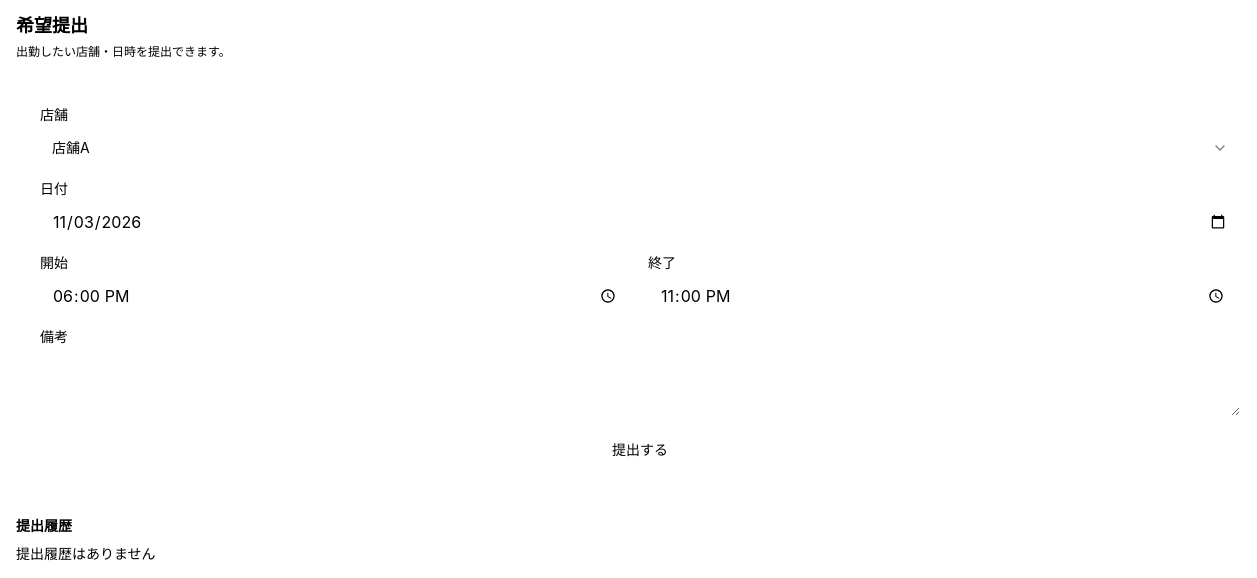
it: 出勤希望フォームの店舗セレクト配線と送信ペイロード › セレクタの表示が選択中の店舗に追従すること
What coordinates should you click on to do the following:
click the dropdown labelled "店舗"
I would click on:
 (71, 148)
Its box is [40,130,1240,166].
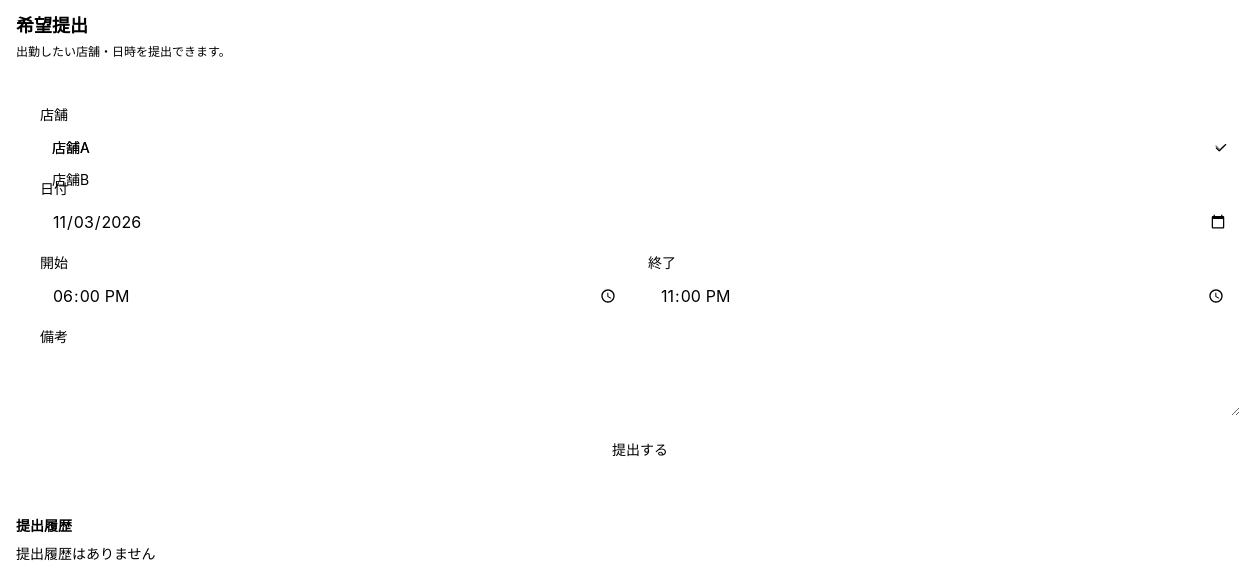
What coordinates should you click on to do the following:
click the option "店舗B"
I would click on:
 (71, 180)
Its box is [52,171,89,188].
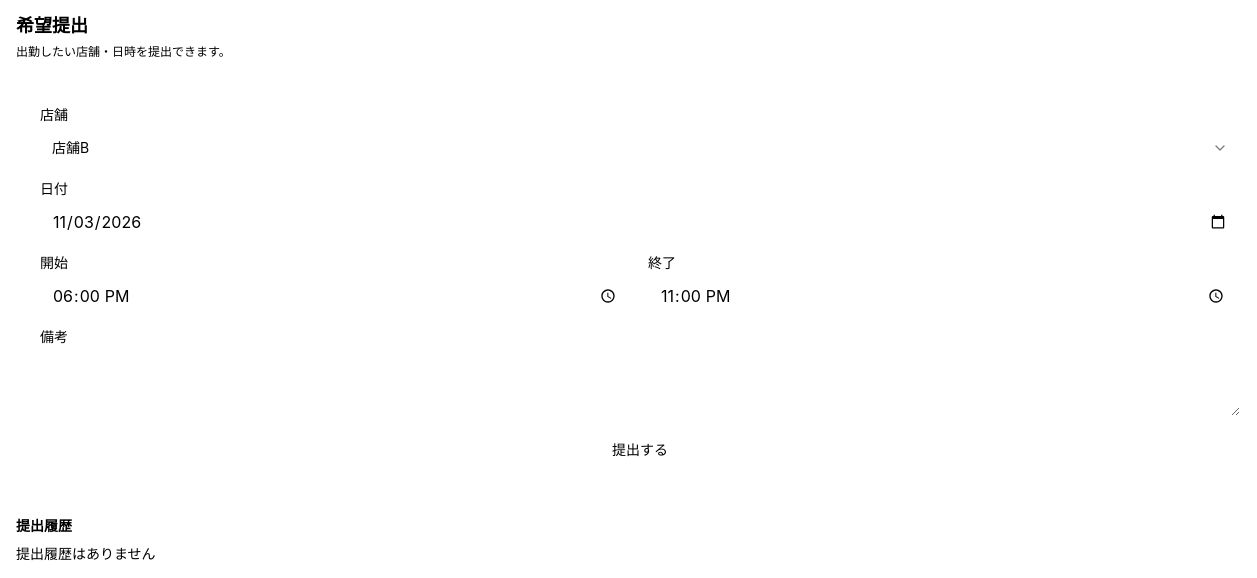
expect the text "店舗A" reads "店舗B": met, box [52,139,89,156]
